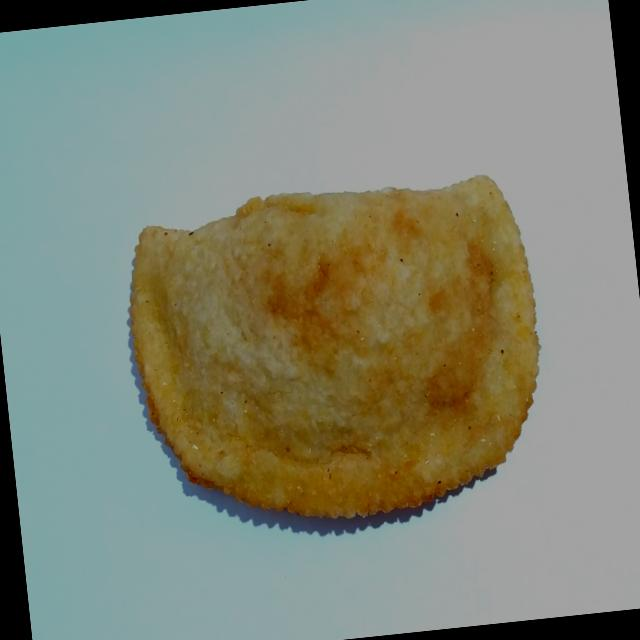Pastel_Mandio: (110, 153, 564, 562)
